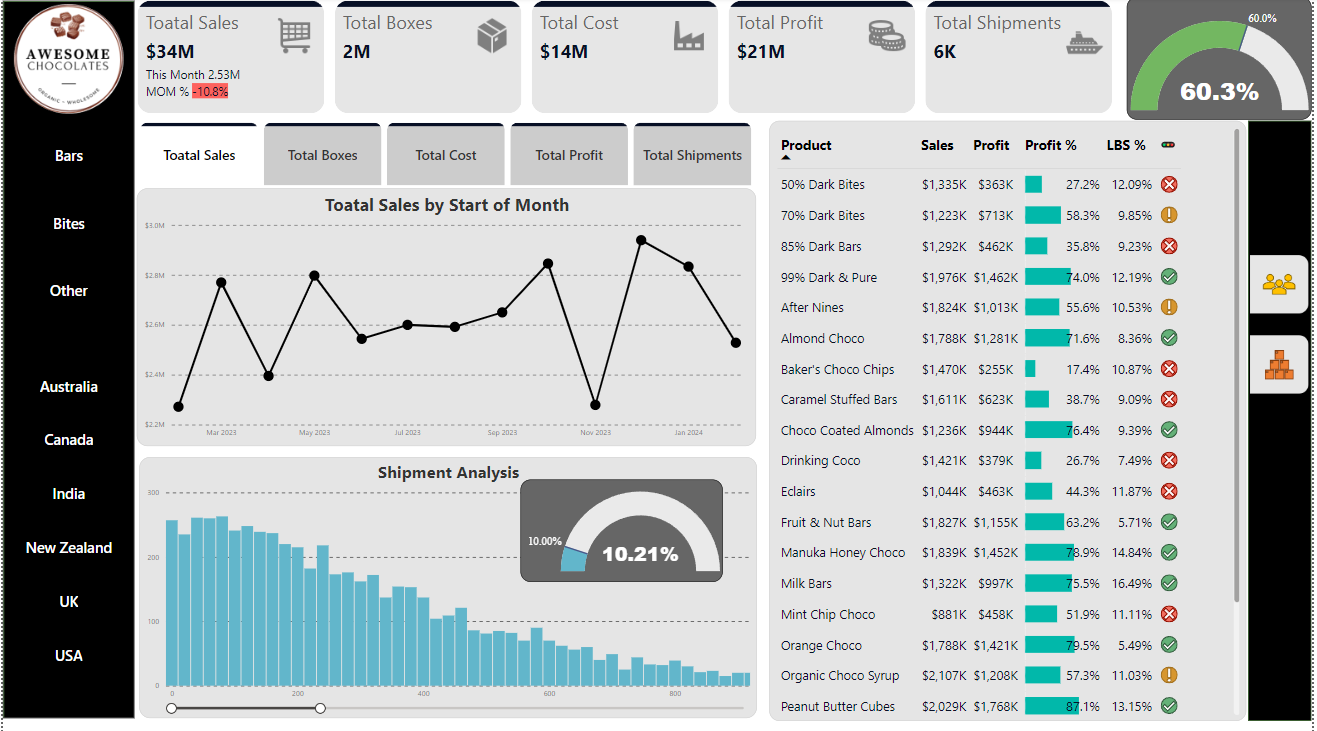

The dashboard page shown, as its layout file describes it:
{"tool":"powerbi","page":{"name":"Sales Report","canvas":[1920,1080],"ordinal":0},"visuals":[{"type":"cardVisual","fields":{"Data":["_Measures.Toatal Sales","_Measures.Total Boxes","_Measures.Total Cost","_Measures.Total Profit","_Measures.Total Shipments"]},"box":[192.6,5.5,1443.6,170.6],"z":0},{"type":"shape","box":[0,5.5,192.6,1052.9],"z":500},{"type":"gauge","fields":{"Y":["_Measures.Profit %"]},"box":[1649,0,271.5,179.8],"z":1000},{"type":"image","box":[0,5.5,192.6,170.6],"z":2000},{"type":"advancedSlicerVisual","fields":{"Values":["Measure Selector.Measure Selector"]},"box":[196.9,179.6,908.9,97.4],"z":3000},{"type":"lineChart","fields":{"Y":["_Measures.Toatal Sales"],"Category":["calendar.Start of Month"]},"box":[196.9,281.3,908.9,378.7],"z":4000},{"type":"columnChart","title":"Shipment Analysis","fields":{"Category":["shipments.Boxes (bins)"],"Y":["_Measures.Total Shipments"]},"box":[199.9,675,906.1,383.4],"z":5000},{"type":"gauge","fields":{"Y":["_Measures.LBS %"]},"box":[759.4,708,297.1,150.4],"z":6000},{"type":"tableEx","title":"Product Table","fields":{"Values":["products.Product","_Measures.Toatal Sales","_Measures.Total Profit","_Measures.Profit %","_Measures.LBS %","_Measures.Profit Target Indicator"]},"box":[1124.4,180.8,700.1,881],"z":8000},{"type":"image","title":"People image","box":[1825.1,372.4,95.4,99],"z":9000},{"type":"image","title":"Product image","box":[1824.5,491.5,95.1,95.1],"z":11000},{"type":"advancedSlicerVisual","fields":{"Values":["locations.Geo"]},"box":[11.6,530.9,171.6,477.6],"z":11001},{"type":"advancedSlicerVisual","fields":{"Values":["products.Category"]},"box":[11.6,180.8,171.6,301.4],"z":11002},{"type":"shape","box":[14.7,482.4,163.2,55],"z":11003}]}

Visuals, with their boxes in screenshot pixels (x1, y1, x2, y2), scaled from the page's 1920x1080 canvas onto the 1317x731 screenshot:
cardVisual - _Measures.Toatal Sales x _Measures.Total Boxes: (132,4,1122,119)
shape: (0,4,132,716)
gauge - _Measures.Profit %: (1131,0,1316,122)
image: (0,4,132,119)
advancedSlicerVisual - Measure Selector.Measure Selector: (135,122,759,187)
lineChart - _Measures.Toatal Sales x calendar.Start of Month: (135,190,759,447)
"Shipment Analysis" columnChart: (137,457,759,716)
gauge - _Measures.LBS %: (521,479,725,581)
"Product Table" tableEx: (771,122,1251,719)
"People image" image: (1252,252,1316,319)
"Product image" image: (1251,333,1316,397)
advancedSlicerVisual - locations.Geo: (8,359,126,683)
advancedSlicerVisual - products.Category: (8,122,126,326)
shape: (10,327,122,364)
